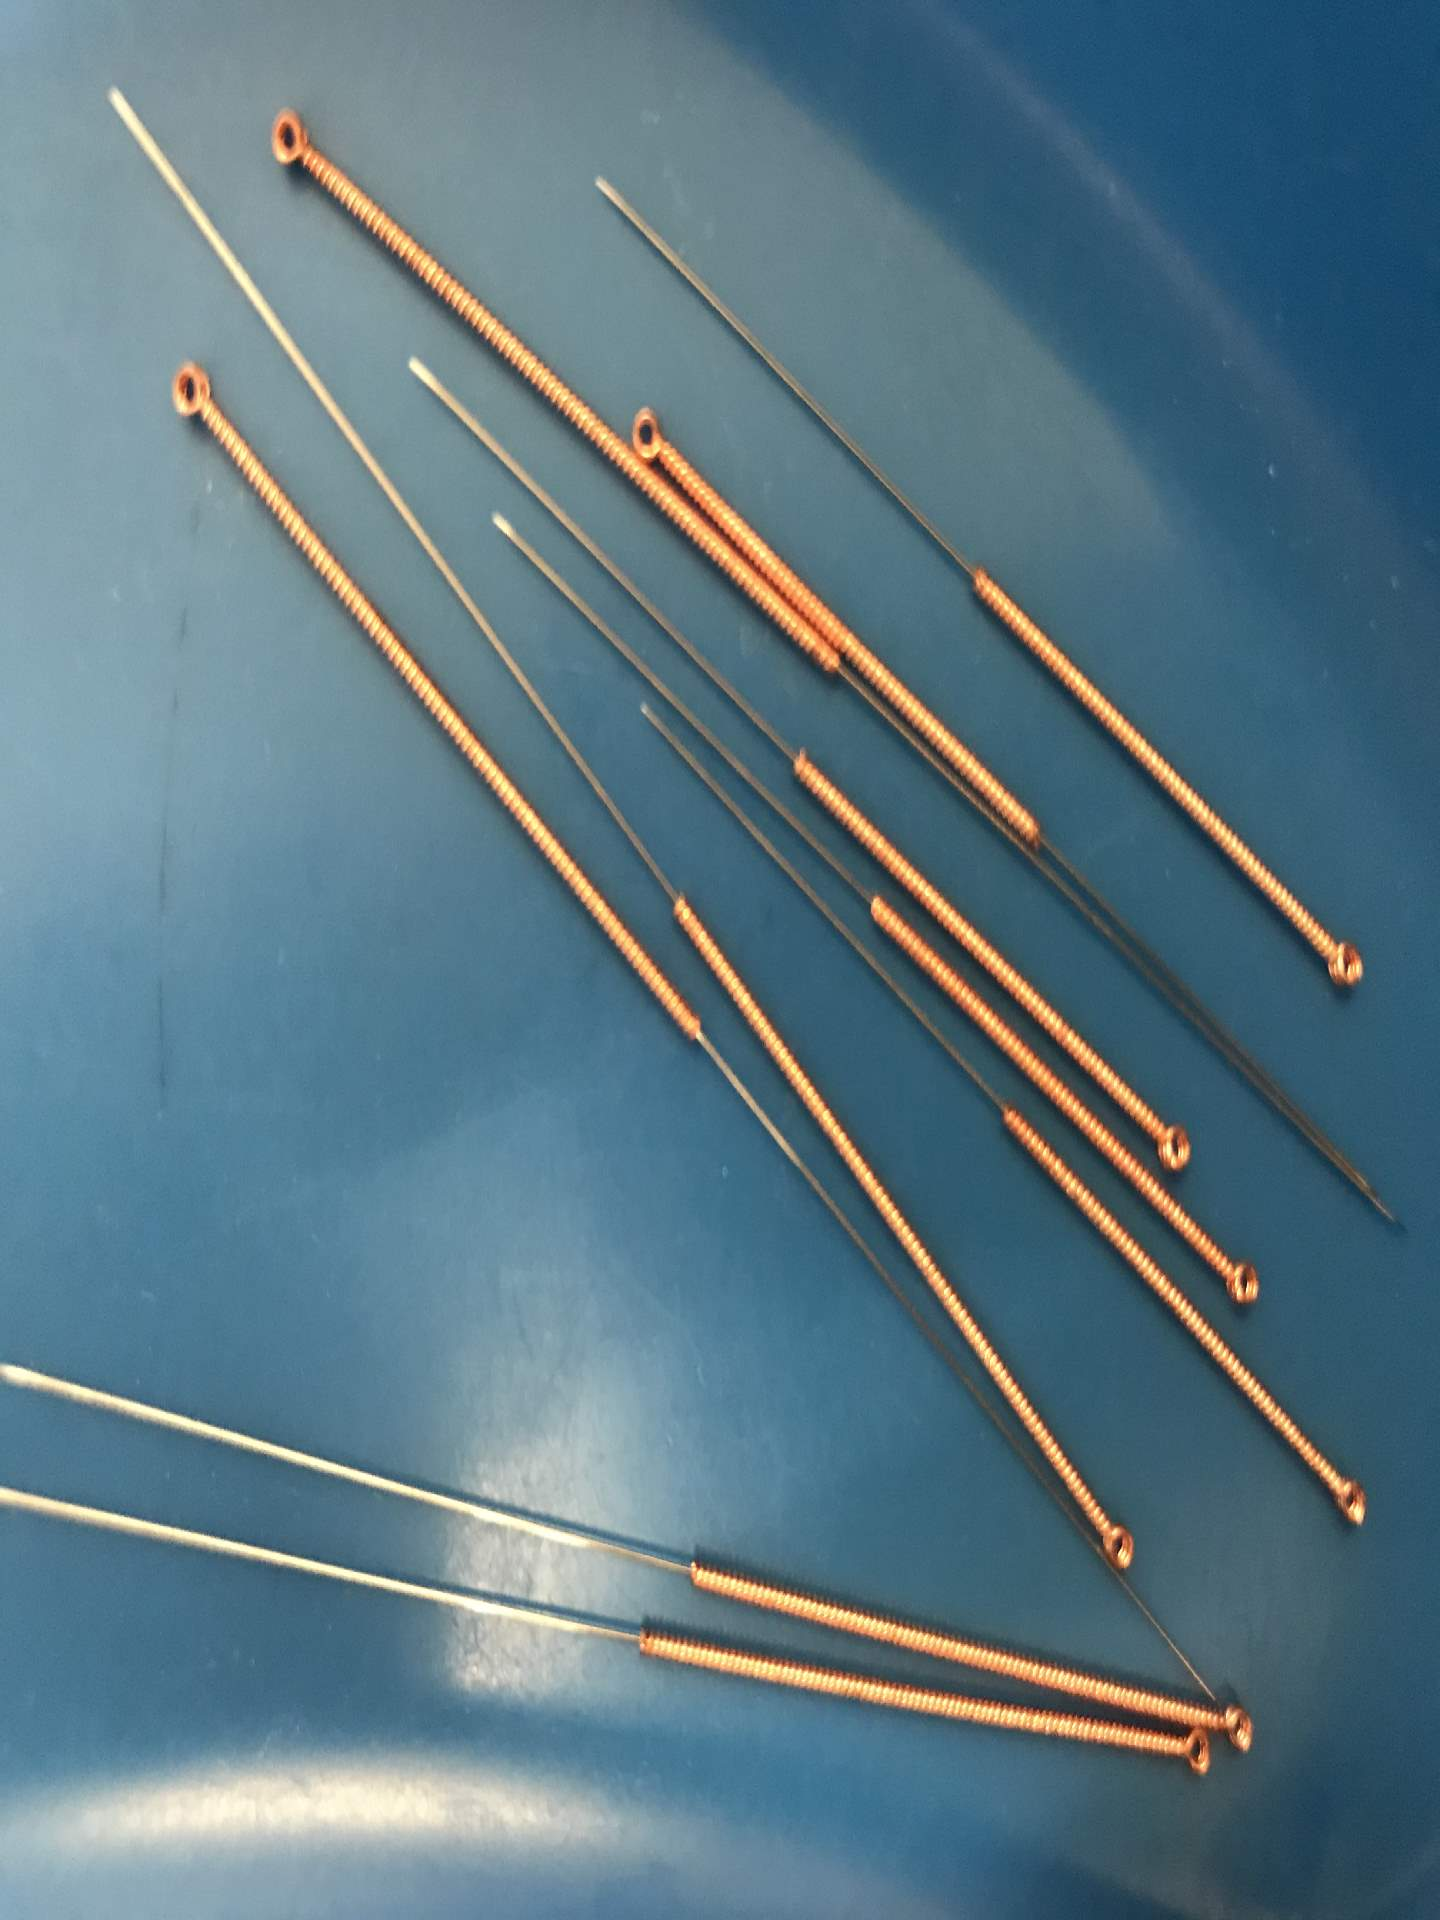needle: (250, 94, 337, 186), (147, 345, 231, 440), (1302, 916, 1376, 1005), (1314, 1460, 1379, 1544), (1083, 1504, 1150, 1583), (1209, 1237, 1269, 1318), (1141, 1101, 1201, 1178), (628, 396, 681, 469), (1210, 1692, 1262, 1761), (1162, 1720, 1218, 1782)
